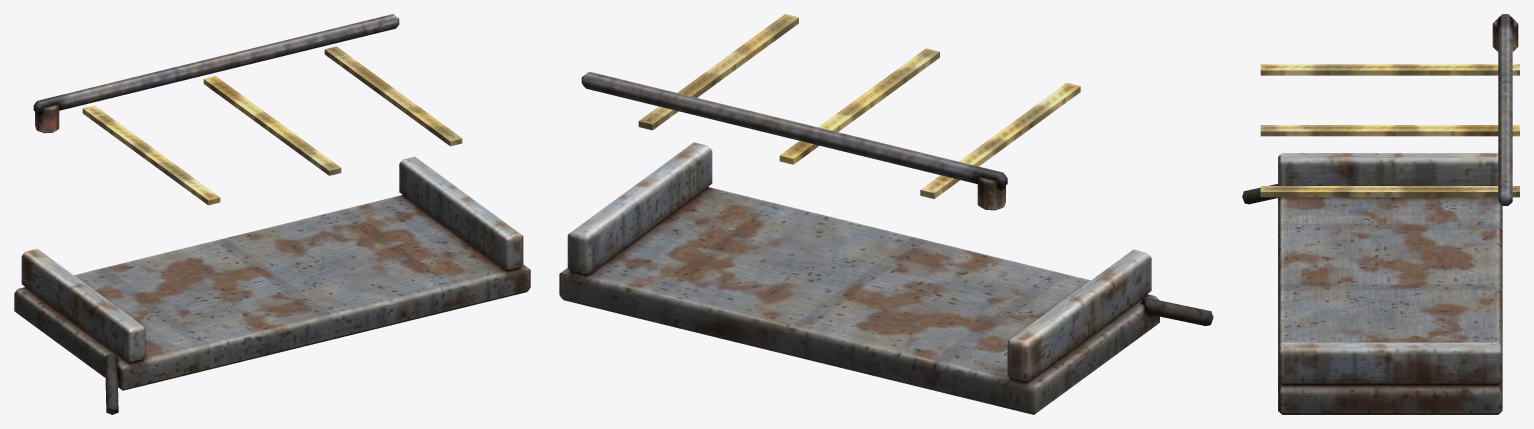
The model's file is bateria_base.glb.
3 renders of one model, left to right at view 1: azimuth 30°, elevation 25°; view 2: azimuth 150°, elevation 25°; view 3: azimuth 270°, elevation 25°, orthographic. The views are drawn at different scales.
Visible parts, largest first — view 1: bateria_base; view 2: bateria_base; view 3: bateria_base.
Boxes of the visible parts, bbox=[...] form: bateria_base: bbox=[14, 14, 530, 414]; bateria_base: bbox=[559, 14, 1213, 414]; bateria_base: bbox=[1242, 14, 1519, 414].
Size of the model in its own units: 1.82 by 0.8279 by 0.9648.
Materials: 1 (1 with a texture image).
